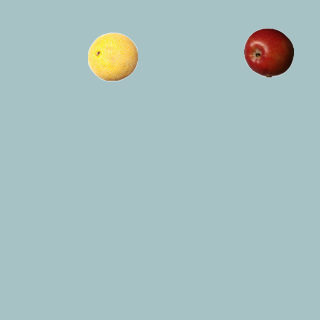Apple Braeburn: (243, 27, 293, 77)
Cantaloupe 1: (87, 31, 137, 81)
